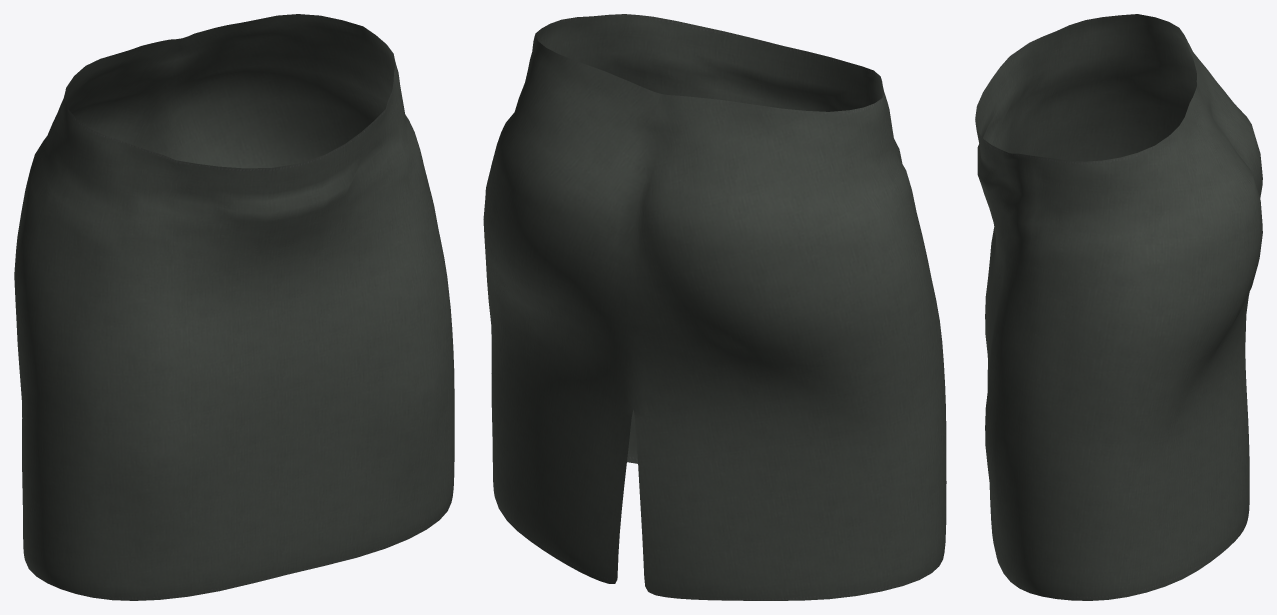
The model's file is ONFIT_Skirt_Female_v3.glb.
3 views of the same model, side by side, from view 1: azimuth 30°, elevation 25°; view 2: azimuth 150°, elevation 25°; view 3: azimuth 270°, elevation 25° (orthographic). The views are drawn at different scales.
Visible parts, largest first — view 1: ONFIT_Skirt_Female_v3; view 2: ONFIT_Skirt_Female_v3; view 3: ONFIT_Skirt_Female_v3.
Part boxes in pixels (left/top/right/bottom): ONFIT_Skirt_Female_v3: left=14, top=14, right=454, bottom=600; ONFIT_Skirt_Female_v3: left=483, top=14, right=946, bottom=600; ONFIT_Skirt_Female_v3: left=975, top=14, right=1262, bottom=600.
Size of the model in its own units: 0.3883 by 0.4223 by 0.2498.
1 material, 1 textured.
